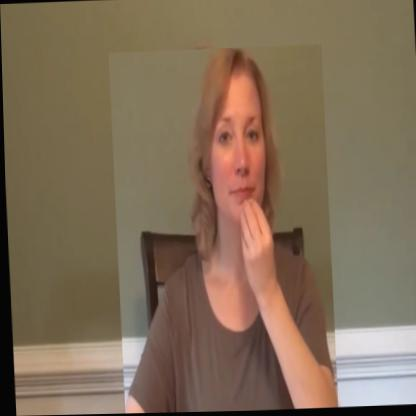Food: (107, 45, 336, 414)
